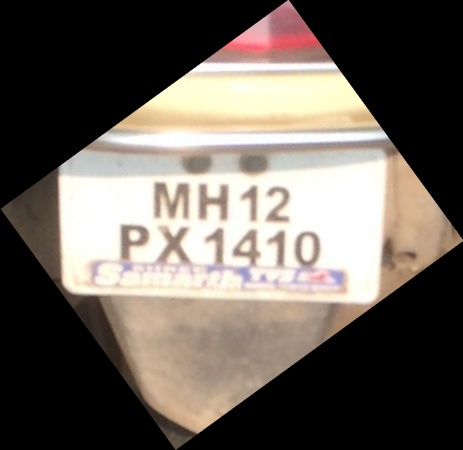character: (153, 220, 194, 265), (117, 221, 151, 266), (152, 180, 190, 220), (230, 226, 261, 267), (197, 181, 228, 221), (263, 183, 291, 223), (294, 229, 321, 269), (204, 224, 226, 266), (239, 181, 259, 226), (267, 225, 286, 270)
